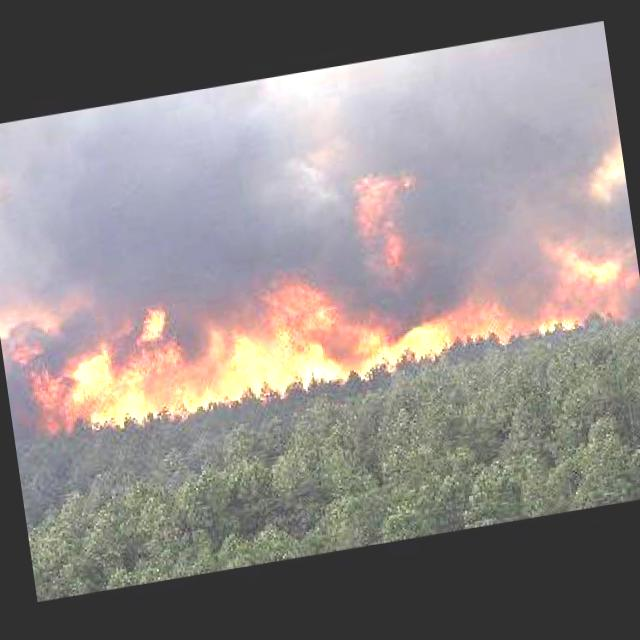helmet: (11, 236, 530, 443), (528, 221, 632, 341), (341, 164, 414, 283)
no_helmet: (0, 18, 630, 319)
